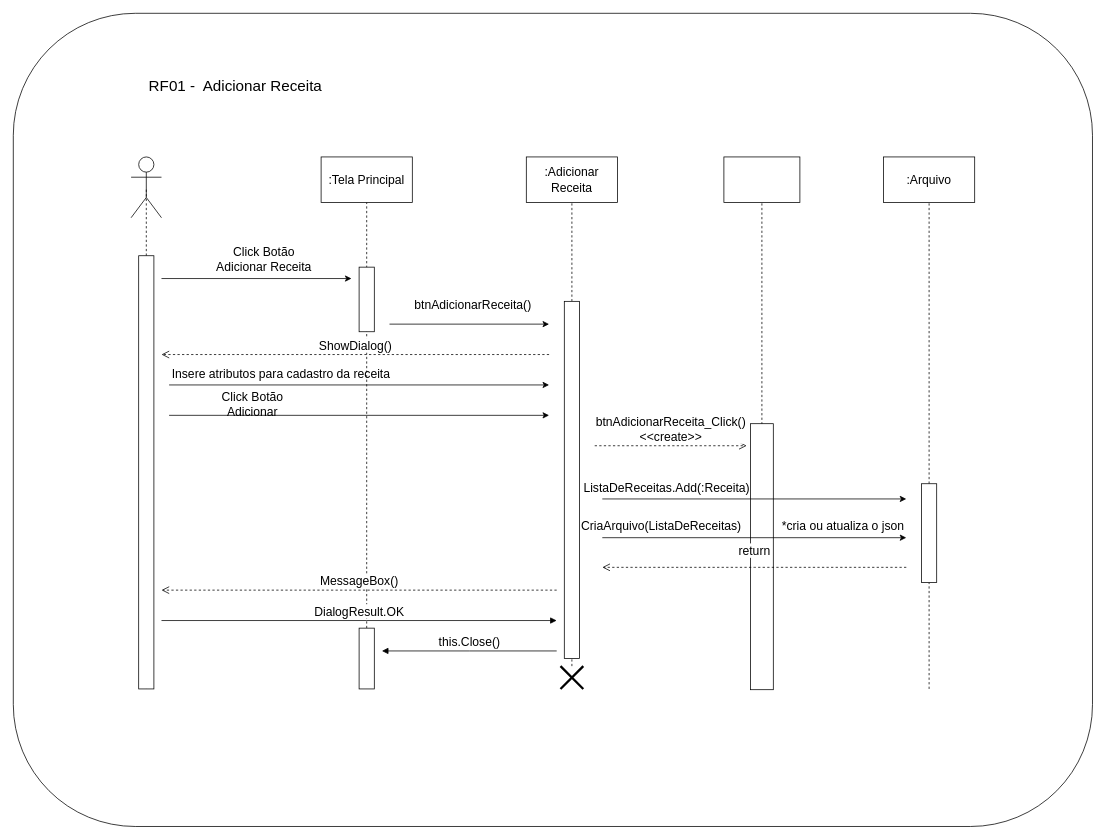
This 1106x840 diagram has some shape labels left out. Here are the shapes that lost their labels. From the top down, the box of each, then its label:
(130, 156, 162, 218): Usuario
(723, 156, 800, 203): :Receita
